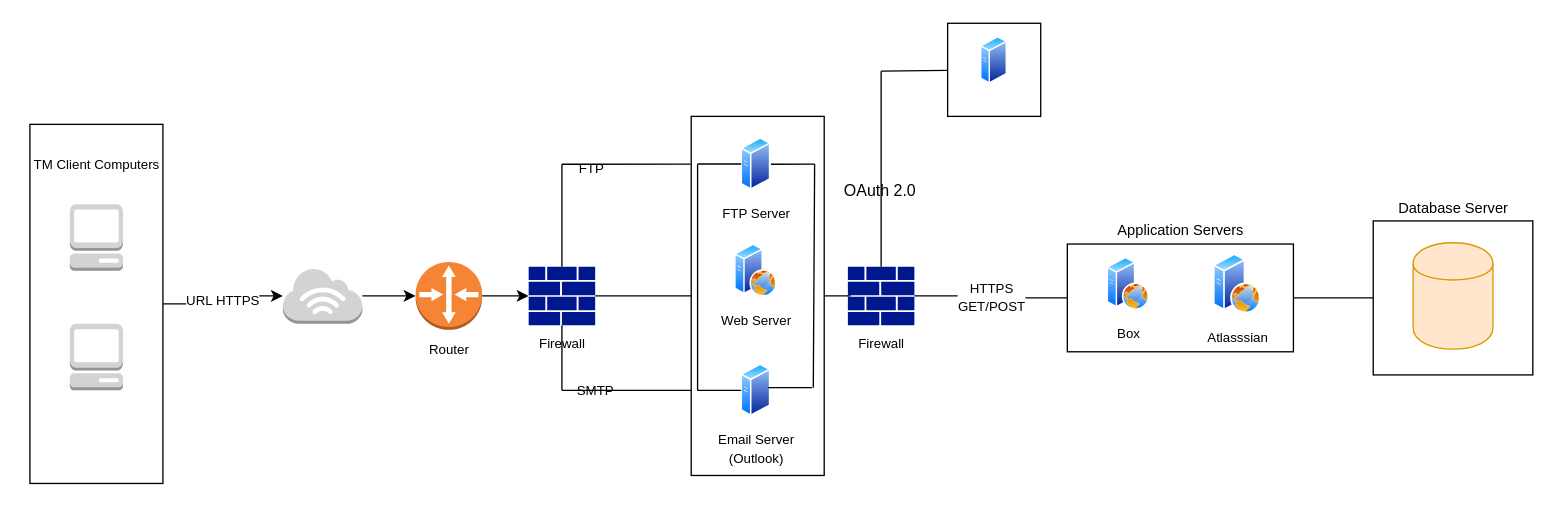
This 1556x507 diagram has some shape labels left out. Here are the shapes that lost their labels. From the top down, the centre of each, then its label:
At (993,60): "Google Authentication server".
At (322,295): "Internet".
At (1452,295): "Firebase".
